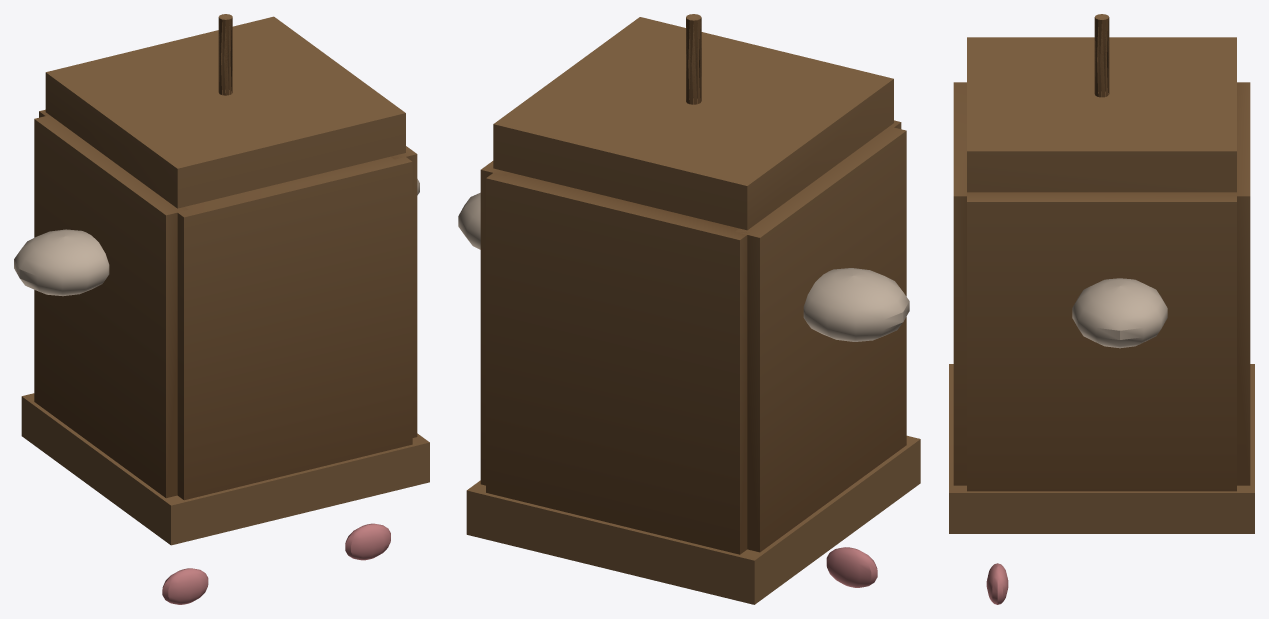
The model's file is peee9bdcc.glb.
The picture shows the model from 3 angles, left to right: view 1: azimuth 30°, elevation 25°; view 2: azimuth 150°, elevation 25°; view 3: azimuth 270°, elevation 25°; orthographic projection. The views are drawn at different scales.
Visible parts, largest first — view 1: pet_peee9bdcc; view 2: pet_peee9bdcc; view 3: pet_peee9bdcc.
Part boxes in pixels (bbox=[...]): pet_peee9bdcc: bbox=[14, 14, 429, 604]; pet_peee9bdcc: bbox=[458, 14, 920, 604]; pet_peee9bdcc: bbox=[949, 14, 1254, 604].
Size of the model in its own units: 0.5182 by 0.6614 by 0.34.
